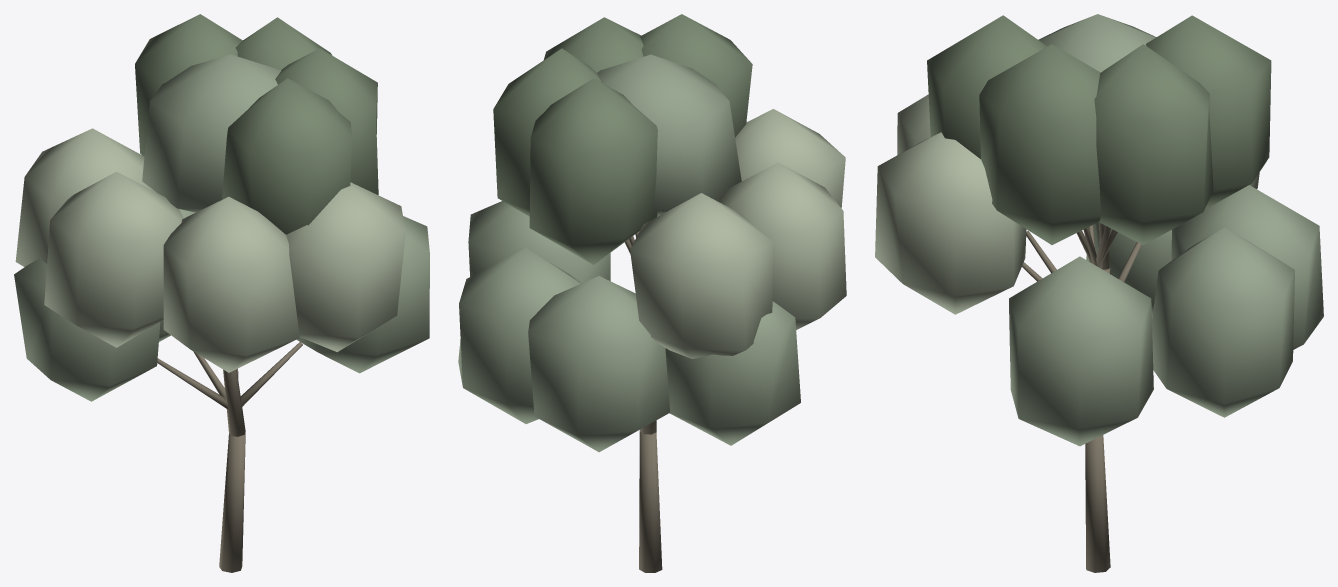
The model's file is SM_MPR3_Tree_0_LOD2.fbx.
The picture shows the model from 3 angles, left to right: view 1: azimuth 30°, elevation 25°; view 2: azimuth 150°, elevation 25°; view 3: azimuth 270°, elevation 25°; orthographic projection. The views are drawn at different scales.
Visible parts, largest first — view 1: SM_MPR3_Tree_0_LOD2; view 2: SM_MPR3_Tree_0_LOD2; view 3: SM_MPR3_Tree_0_LOD2.
Part boxes in pixels (box(x1,y1,x2,y2)): SM_MPR3_Tree_0_LOD2: box(14, 14, 429, 572); SM_MPR3_Tree_0_LOD2: box(458, 14, 846, 572); SM_MPR3_Tree_0_LOD2: box(875, 14, 1323, 572).
Size of the model in its own units: 650 by 640 by 880.
